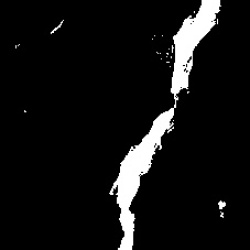crack: (108, 2, 221, 247), (50, 21, 63, 33)
pinhole: (217, 202, 228, 217)
